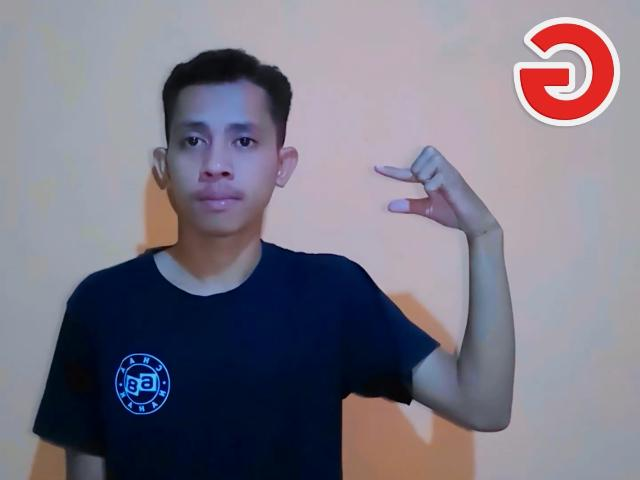G: (373, 143, 502, 235)
